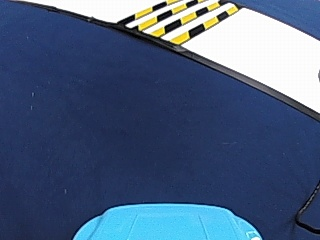bump: (135, 0, 208, 37)
